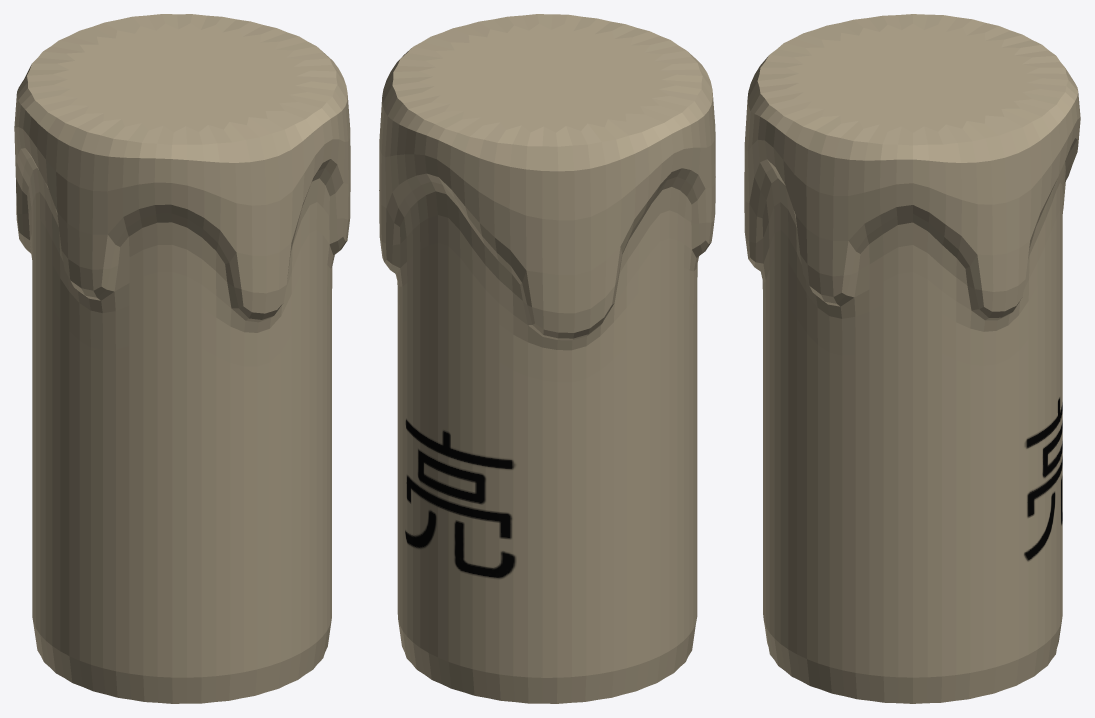
The model's file is Candle_Yukiko.fbx.
The picture shows the model from 3 angles, left to right: view 1: azimuth 30°, elevation 25°; view 2: azimuth 150°, elevation 25°; view 3: azimuth 270°, elevation 25°; orthographic projection.
Visible parts, largest first — view 1: Cylinder; view 2: Cylinder; view 3: Cylinder.
Part boxes in pixels (left/top/right/bottom): Cylinder: left=14, top=14, right=350, bottom=703; Cylinder: left=379, top=14, right=715, bottom=703; Cylinder: left=744, top=14, right=1080, bottom=703.
Size of the model in its own units: 7.79 by 14.61 by 7.81.
1 material, 1 textured.
